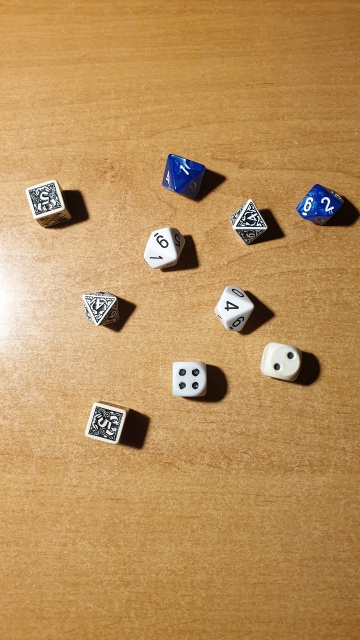d10-1: (169, 153, 207, 188)
d10-2: (312, 187, 341, 222)
d10-4: (214, 289, 251, 323)
d10-9: (147, 226, 176, 256)
d6-2: (265, 343, 301, 379)
d6-4: (171, 360, 209, 398)
d6p-5: (87, 399, 127, 446), (24, 179, 67, 219)
d8p-4: (84, 292, 116, 323), (239, 204, 267, 231)
